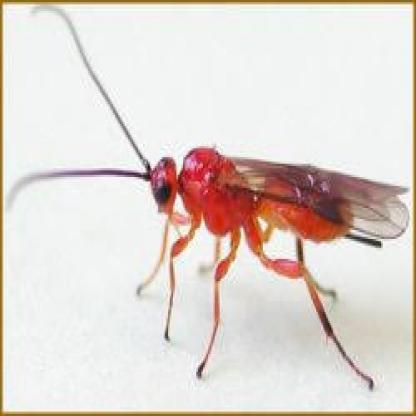sawfly: (4, 4, 414, 416)
